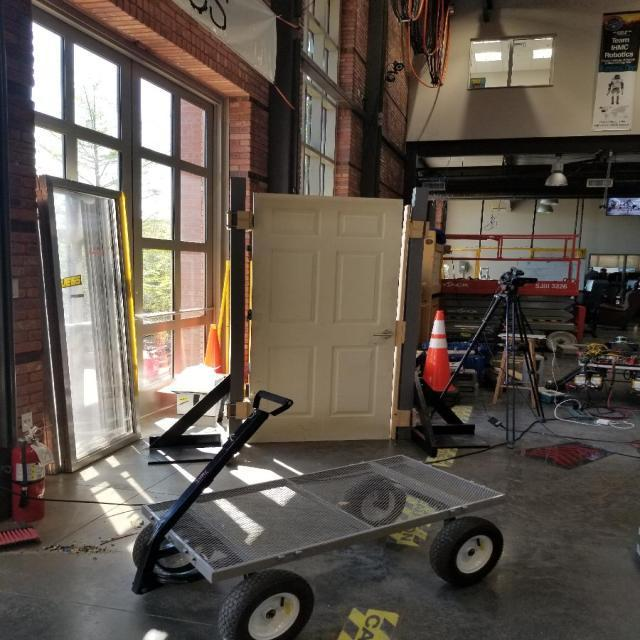door: (246, 190, 404, 447), (371, 326, 394, 342)
